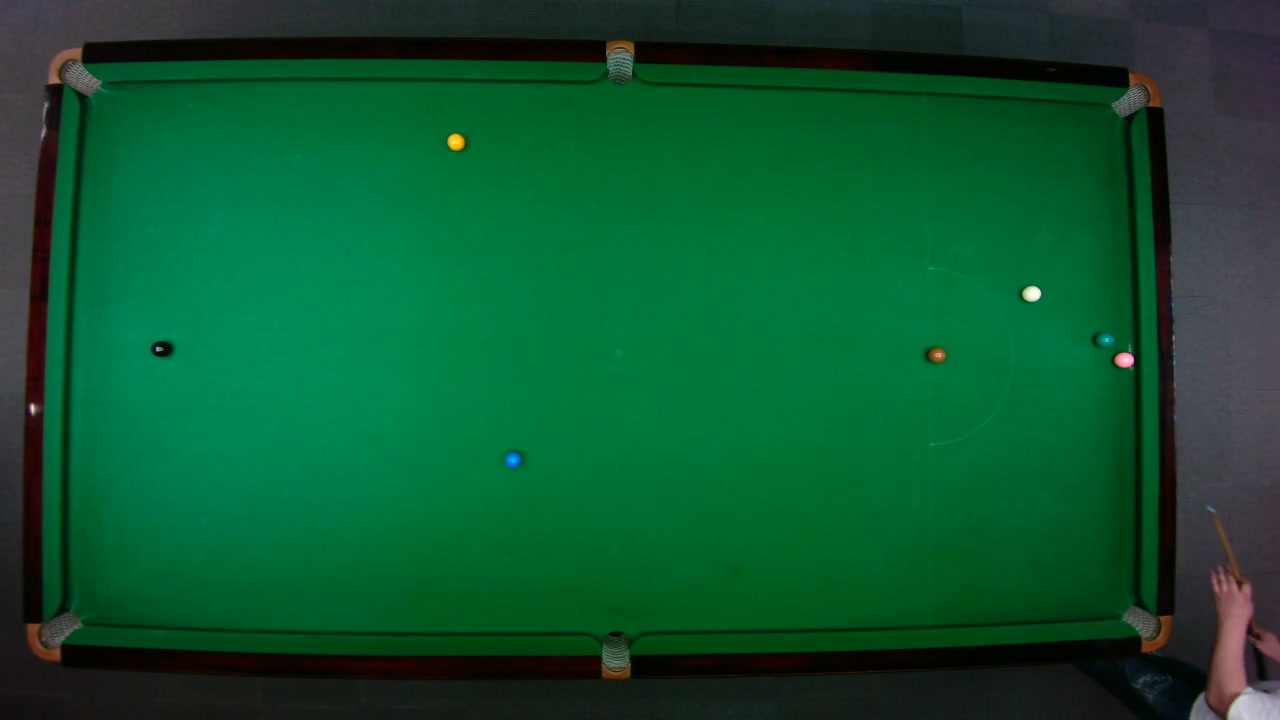bag: (25, 609, 83, 662), (46, 46, 102, 96), (1119, 603, 1172, 651), (1108, 71, 1161, 118), (600, 629, 629, 680), (605, 39, 633, 85)
black: (149, 339, 171, 357)
blue: (503, 450, 523, 468)
brown: (926, 346, 946, 362)
cue: (1207, 506, 1256, 682)
green: (1093, 330, 1114, 347)
pink: (1112, 350, 1135, 368)
white: (1020, 284, 1041, 302)
yellow: (446, 131, 465, 151)
zone: (927, 266, 1013, 445)
